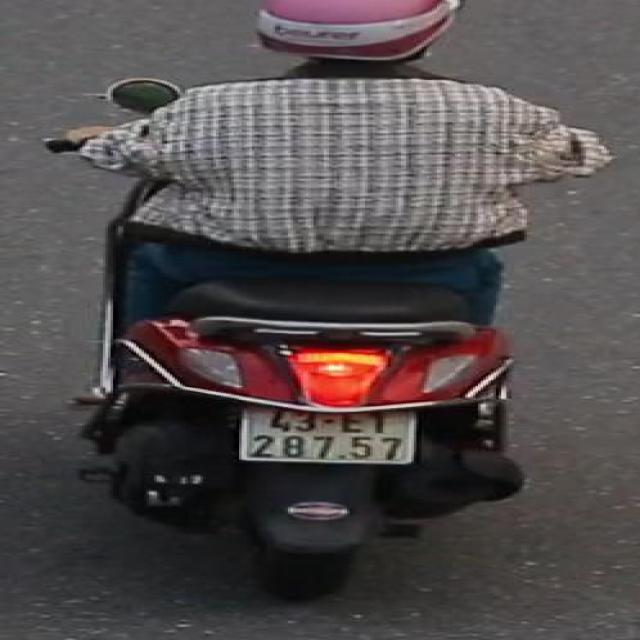LP: (232, 409, 429, 467)
helmet: (248, 0, 459, 82)
